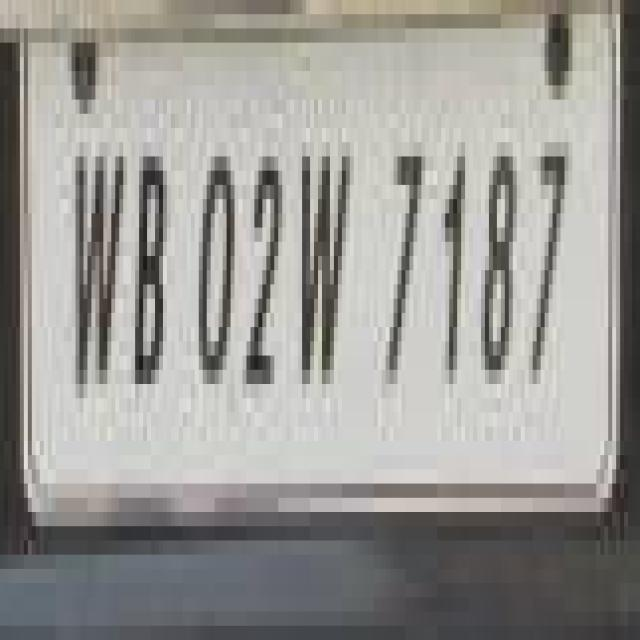plate: (4, 0, 612, 526)
